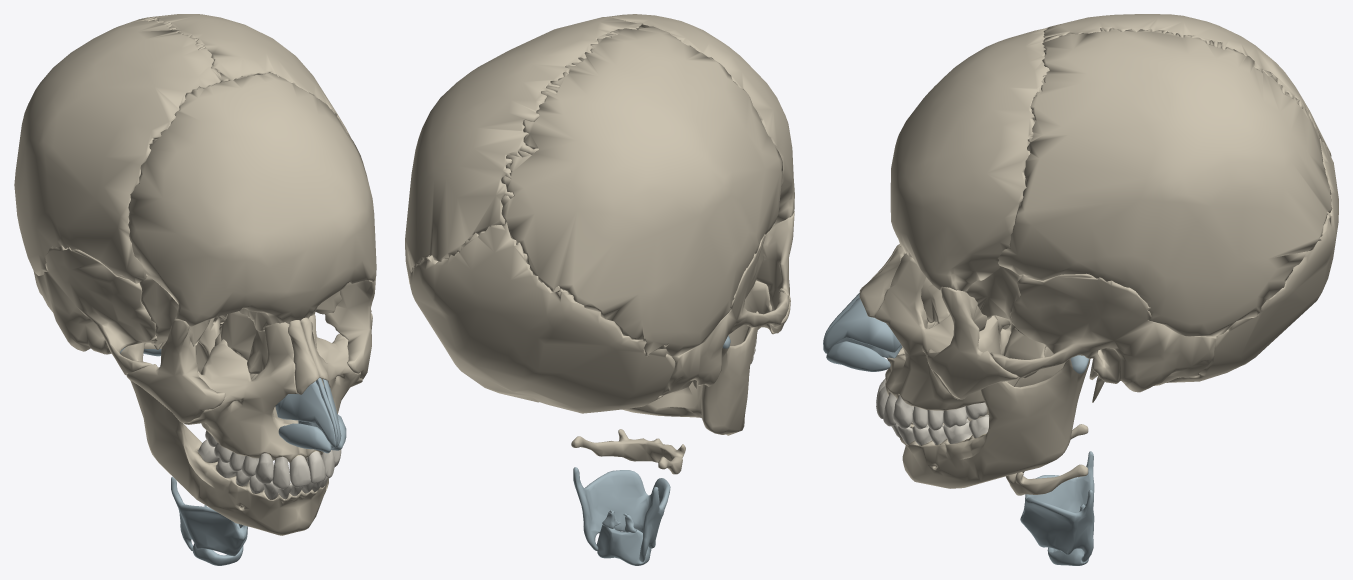
Rendered from bones-skull.glb.
3 renders of one model, left to right at view 1: azimuth 30°, elevation 25°; view 2: azimuth 150°, elevation 25°; view 3: azimuth 270°, elevation 25°, orthographic. The views are drawn at different scales.
Parts seen in each view (by area): view 1: bone-frontal-bone, bone-parietal-bone-r, bone-temporal-bone-r, bone-maxilla-r, bone-mandible, bone-parietal-bone-l, bone-zygomatic-bone-r, bone-sphenoid-bone, bone-zygomatic-bone-l, bone-thyroid-cartilage, bone-maxilla-l, bone-lateral-process-of-nasal-septal-cartilage-r (+10 smaller); view 2: bone-parietal-bone-r, bone-occipital-bone, bone-parietal-bone-l, bone-frontal-bone, bone-mandible, bone-thyroid-cartilage, bone-temporal-bone-r, bone-zygomatic-bone-r, bone-hyoid-bone, bone-cricoid-cartilage, bone-maxilla-r; view 3: bone-parietal-bone-l, bone-frontal-bone, bone-temporal-bone-l, bone-mandible, bone-maxilla-l, bone-occipital-bone, bone-parietal-bone-r, bone-zygomatic-bone-l, bone-thyroid-cartilage, bone-sphenoid-bone, bone-lateral-process-of-nasal-septal-cartilage-l, bone-hyoid-bone (+3 smaller).
Boxes of the visible parts, bbox=[...] form: bone-frontal-bone: bbox=[128, 72, 376, 331]; bone-parietal-bone-r: bbox=[14, 17, 228, 283]; bone-temporal-bone-r: bbox=[33, 245, 157, 375]; bone-maxilla-r: bbox=[184, 322, 306, 462]; bone-mandible: bbox=[120, 311, 329, 535]; bone-parietal-bone-l: bbox=[140, 14, 363, 164]; bone-zygomatic-bone-r: bbox=[126, 319, 225, 423]; bone-sphenoid-bone: bbox=[139, 275, 341, 373]; bone-zygomatic-bone-l: bbox=[325, 277, 375, 379]; bone-thyroid-cartilage: bbox=[171, 476, 247, 556]; bone-maxilla-l: bbox=[298, 314, 362, 457]; bone-lateral-process-of-nasal-septal-cartilage-r: bbox=[275, 381, 335, 447]; bone-parietal-bone-r: bbox=[501, 24, 782, 356]; bone-occipital-bone: bbox=[409, 224, 675, 413]; bone-parietal-bone-l: bbox=[405, 17, 641, 284]; bone-frontal-bone: bbox=[607, 14, 794, 224]; bone-mandible: bbox=[622, 311, 758, 435]; bone-thyroid-cartilage: bbox=[573, 467, 670, 562]; bone-temporal-bone-r: bbox=[660, 233, 789, 395]; bone-zygomatic-bone-r: bbox=[756, 211, 794, 333]; bone-hyoid-bone: bbox=[571, 429, 685, 474]; bone-cricoid-cartilage: bbox=[596, 525, 651, 565]; bone-maxilla-r: bbox=[728, 280, 775, 345]; bone-parietal-bone-l: bbox=[998, 28, 1332, 336]; bone-frontal-bone: bbox=[890, 28, 1049, 291]; bone-temporal-bone-l: bbox=[990, 273, 1216, 402]; bone-mandible: bbox=[900, 346, 1090, 488]; bone-maxilla-l: bbox=[875, 253, 1000, 410]; bone-occipital-bone: bbox=[1166, 138, 1338, 382]; bone-parietal-bone-r: bbox=[1043, 14, 1331, 156]; bone-zygomatic-bone-l: bbox=[927, 287, 1017, 399]; bone-thyroid-cartilage: bbox=[1020, 451, 1094, 562]; bone-sphenoid-bone: bbox=[965, 266, 1046, 378]; bone-lateral-process-of-nasal-septal-cartilage-l: bbox=[823, 297, 900, 353]; bone-hyoid-bone: bbox=[1006, 424, 1088, 495].
Bounding box in the file's own units: 0.1487 × 0.2486 × 0.2191.
